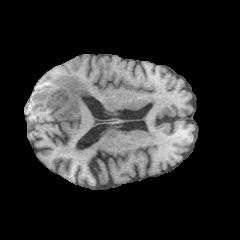glioma: (29, 73, 92, 121)
